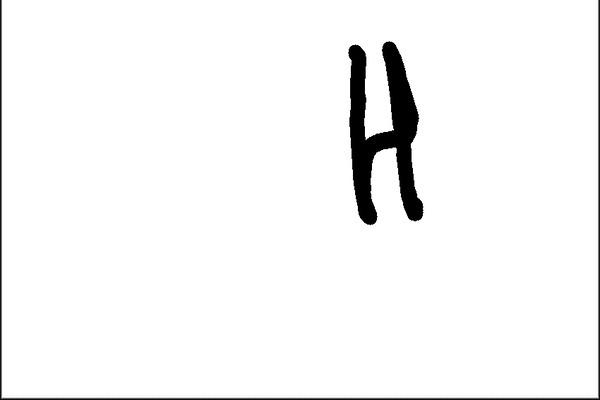H: (336, 33, 431, 227)
